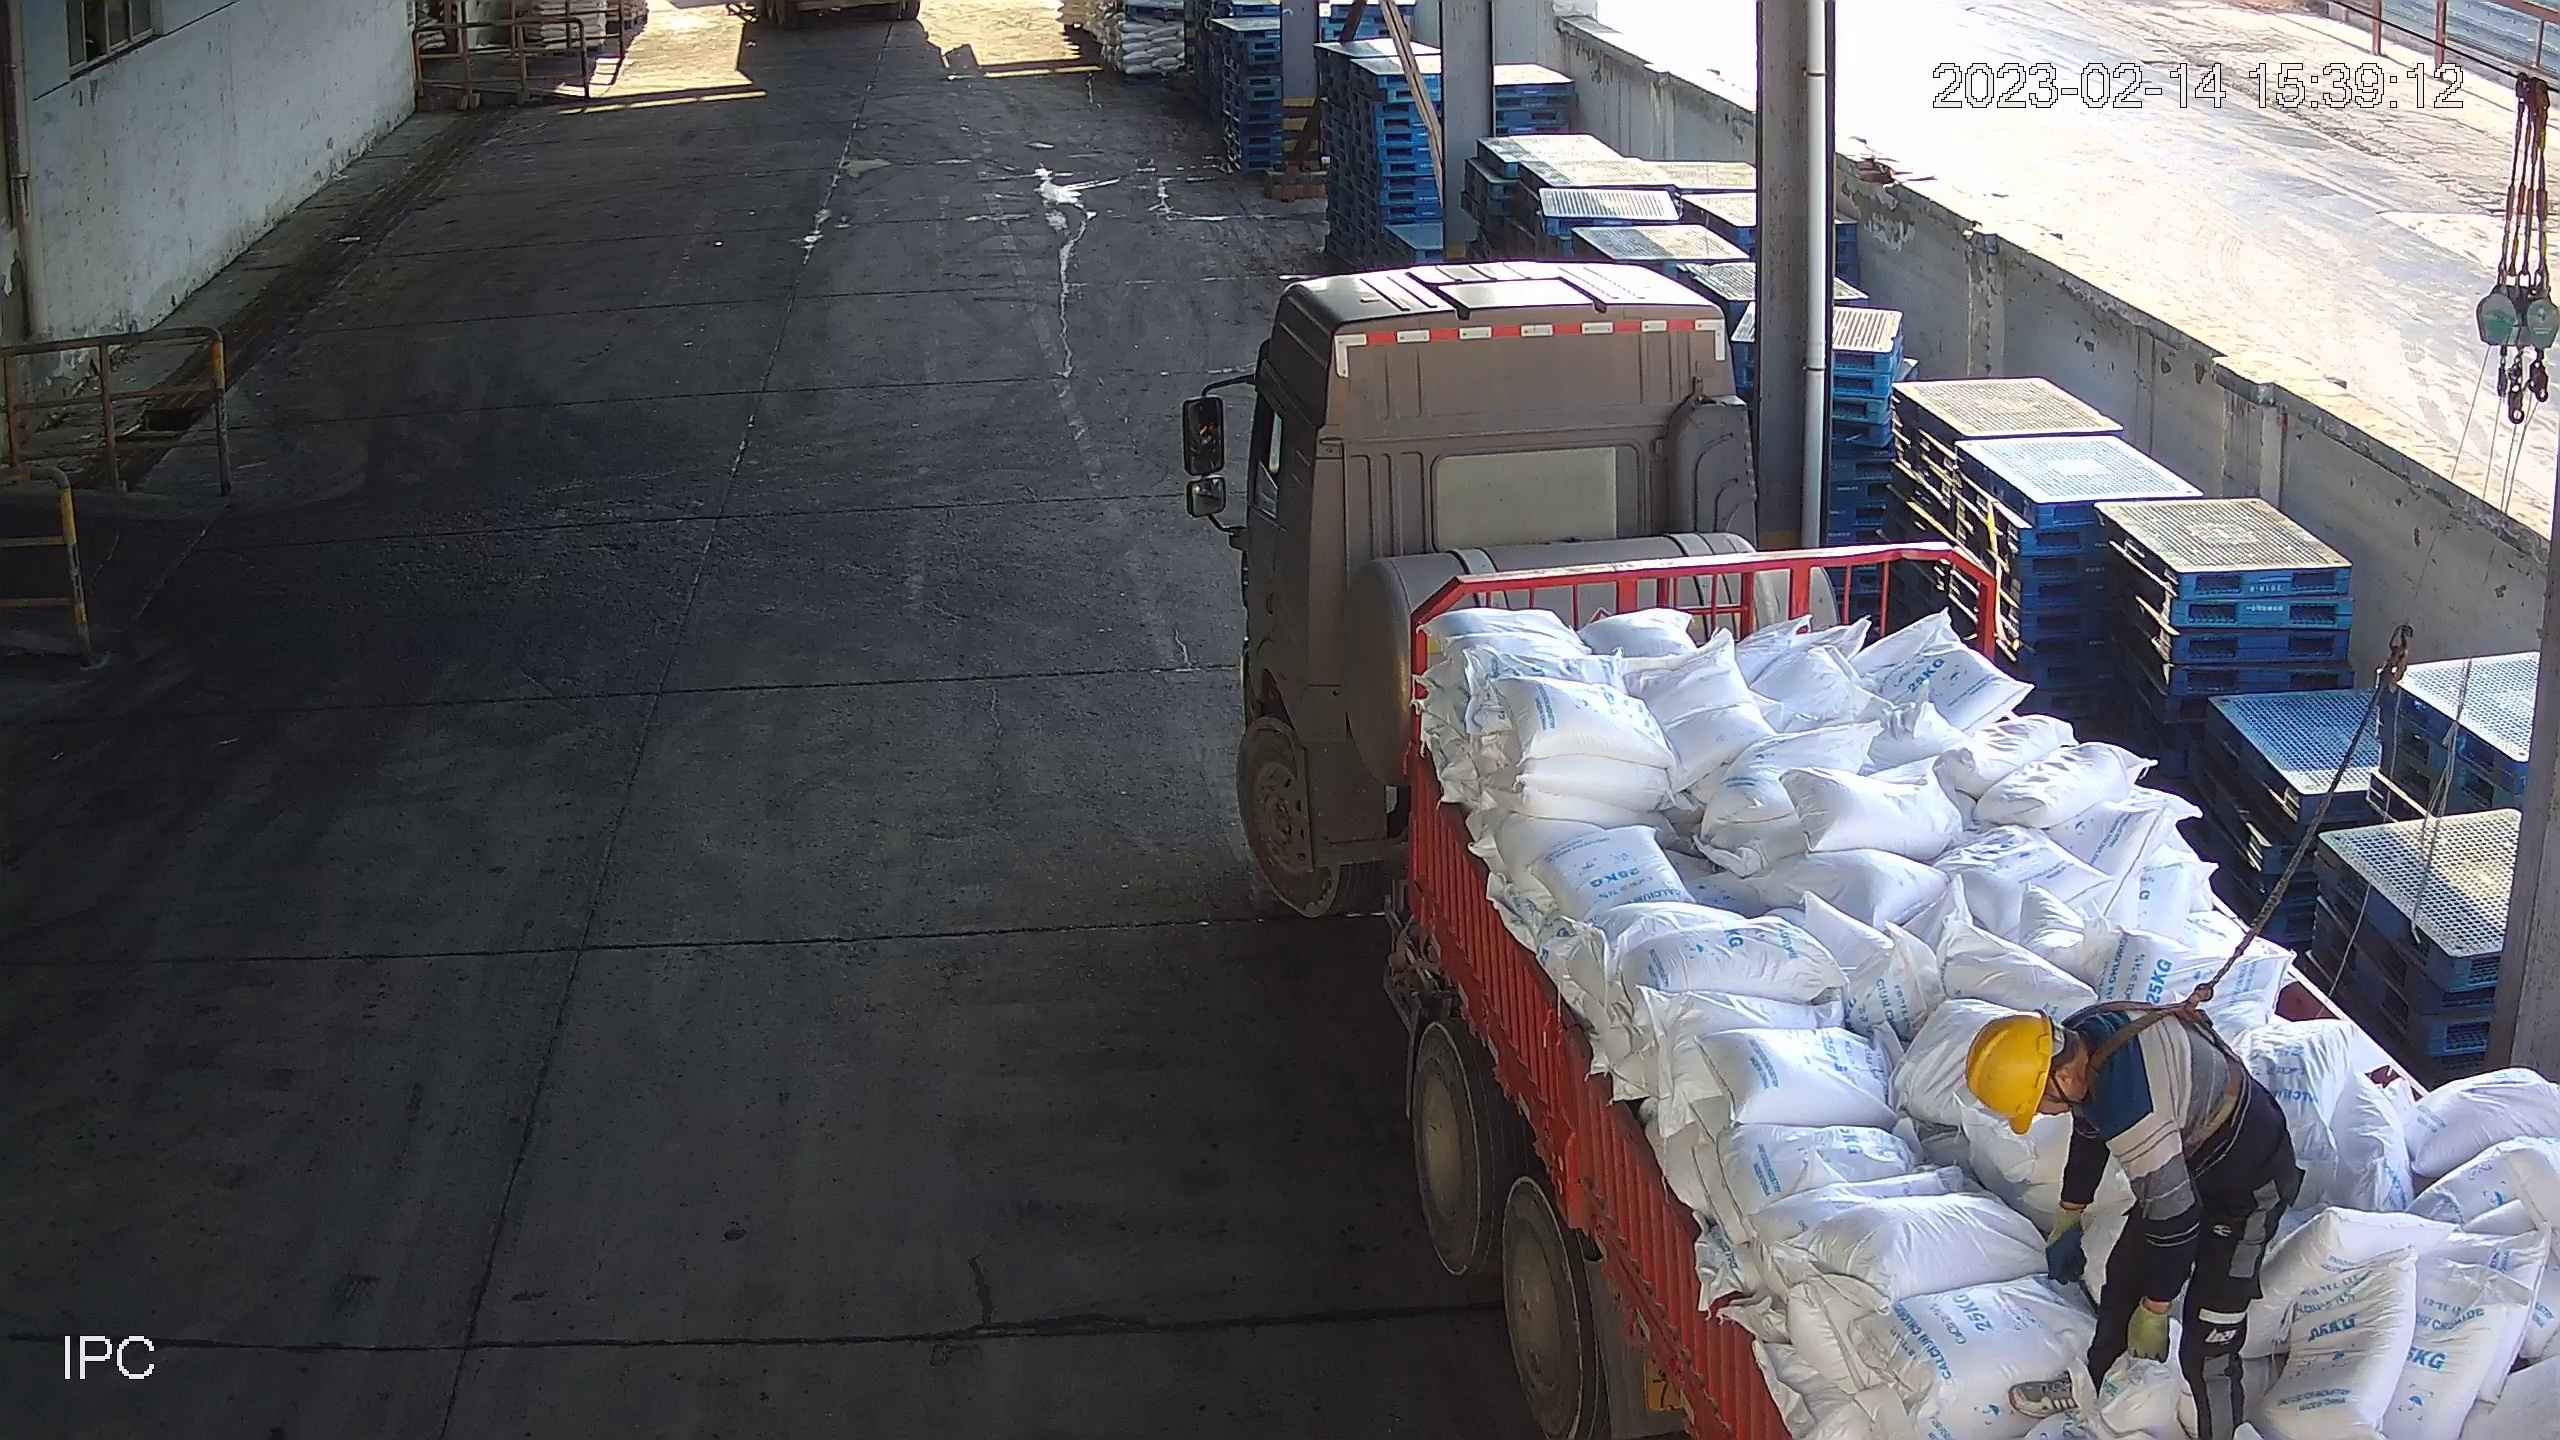belt: (2085, 966, 2238, 1099)
head: (1966, 998, 2175, 1150)
helmet: (1962, 1015, 2055, 1136)
people: (1956, 992, 2297, 1440)
truck: (1176, 255, 2560, 1440)
